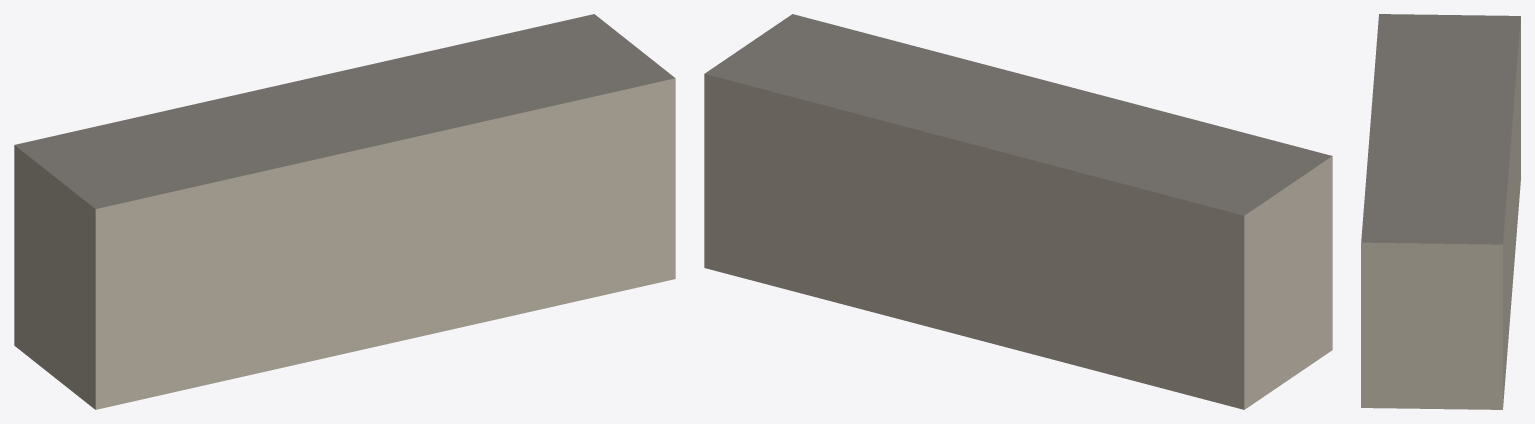
The picture shows the model from 3 angles, left to right: view 1: azimuth 30°, elevation 25°; view 2: azimuth 150°, elevation 25°; view 3: azimuth 270°, elevation 25°; orthographic projection. The views are drawn at different scales.
Visible parts, largest first — view 1: HP-w369317569; view 2: HP-w369317569; view 3: HP-w369317569.
Part boxes in pixels (x1=…): HP-w369317569: x1=14, y1=14, x2=675, y2=409; HP-w369317569: x1=704, y1=14, x2=1332, y2=409; HP-w369317569: x1=1361, y1=14, x2=1520, y2=409.
Bounding box in the file's own units: 53.85 × 18 × 15.76.
